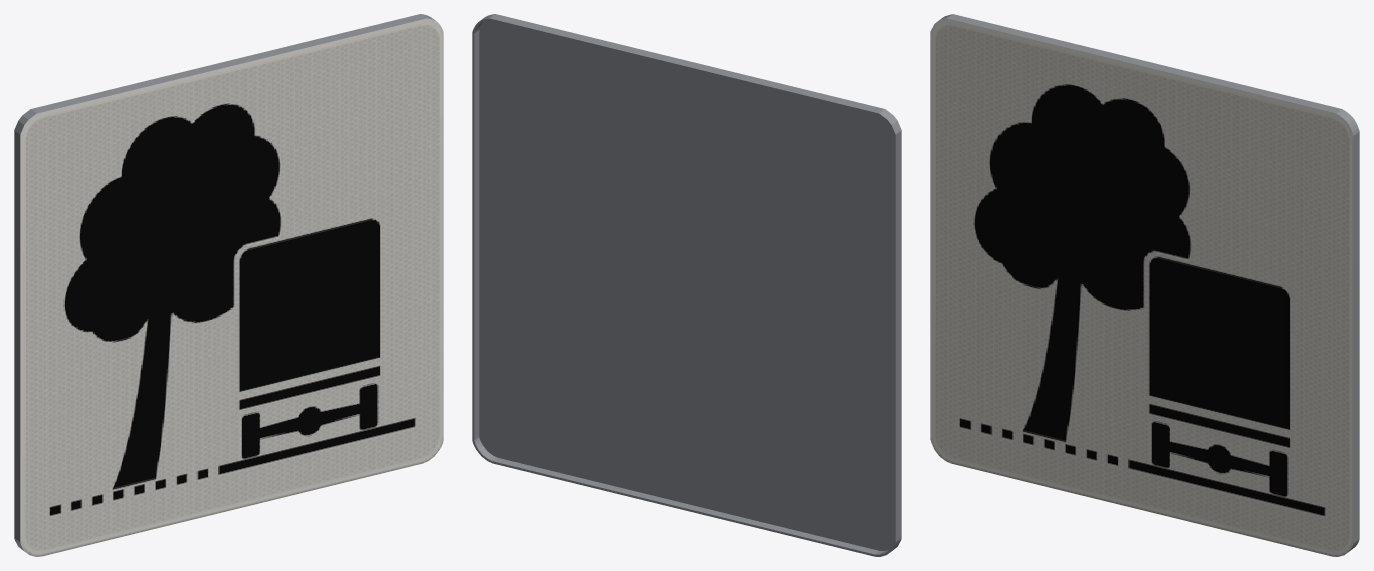
3 views of the same model, side by side, from view 1: azimuth 30°, elevation 25°; view 2: azimuth 150°, elevation 25°; view 3: azimuth 330°, elevation 25° (orthographic).
Parts seen in each view (by area): view 1: cat_8b2d89cae1b9dcd8; view 2: cat_8b2d89cae1b9dcd8; view 3: cat_8b2d89cae1b9dcd8.
Boxes of the visible parts, bbox=[...] form: cat_8b2d89cae1b9dcd8: bbox=[14, 14, 443, 556]; cat_8b2d89cae1b9dcd8: bbox=[472, 14, 901, 556]; cat_8b2d89cae1b9dcd8: bbox=[930, 14, 1359, 556].
Bounding box in the file's own units: 0.6 × 0.015 × 0.6015.
2 materials, 1 textured.
